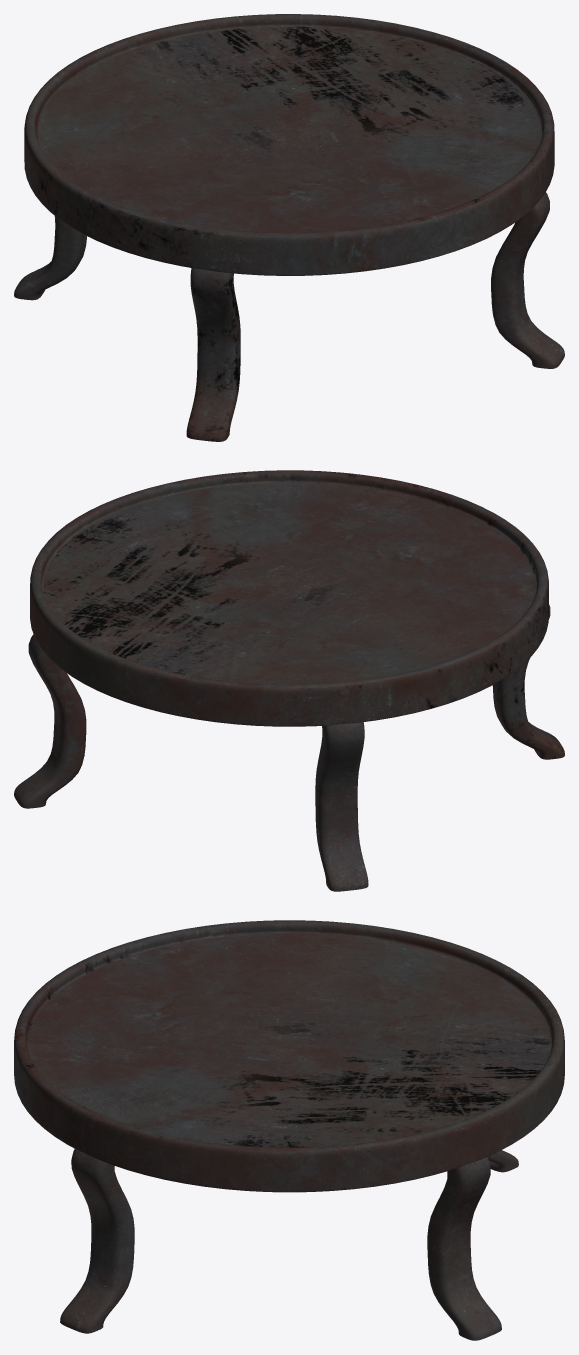
The model's file is Batch_2.2_DIRTY.fbx.
3 views of the same model, one above another, from view 1: azimuth 30°, elevation 25°; view 2: azimuth 150°, elevation 25°; view 3: azimuth 270°, elevation 25° (orthographic). The views are drawn at different scales.
Visible parts, largest first — view 1: Pot_Stand_Dirty; view 2: Pot_Stand_Dirty; view 3: Pot_Stand_Dirty.
Part boxes in pixels (box(x1,y1,x2,y2)): Pot_Stand_Dirty: box(14, 14, 564, 441); Pot_Stand_Dirty: box(14, 470, 564, 891); Pot_Stand_Dirty: box(14, 920, 564, 1340).
Size of the model in its own units: 0.3137 by 0.1314 by 0.3137.
1 material, 1 textured.
